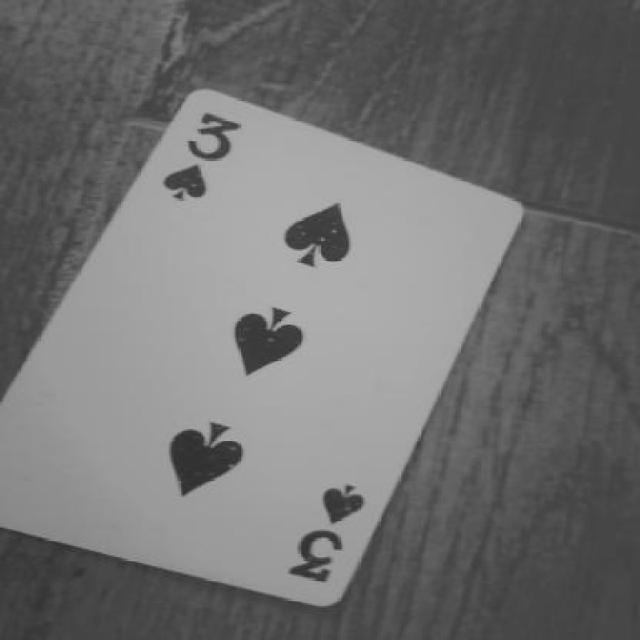3S: (262, 470, 387, 587), (152, 107, 276, 208)
